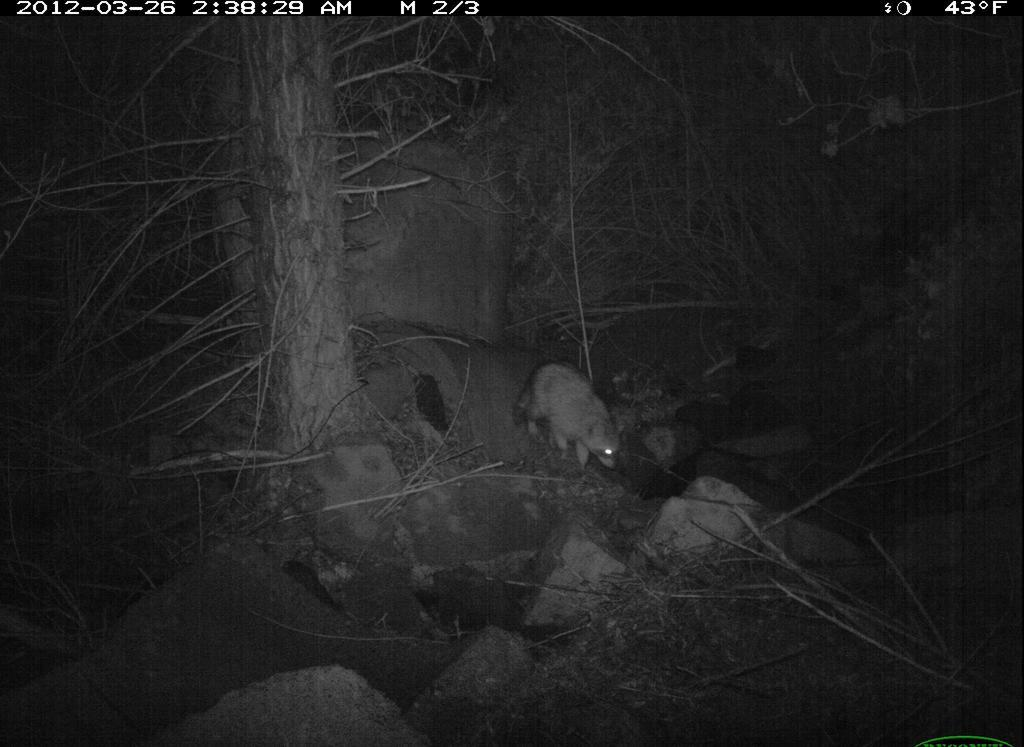raccoon: (511, 360, 638, 491)
